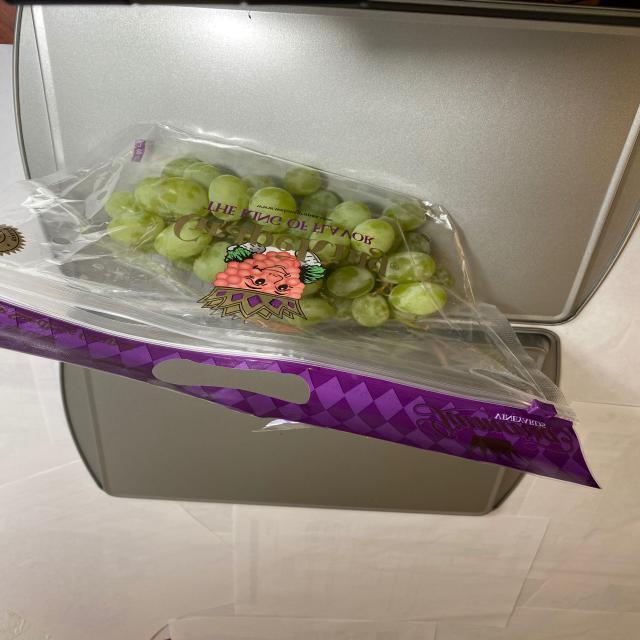grapes: (115, 146, 471, 337)
